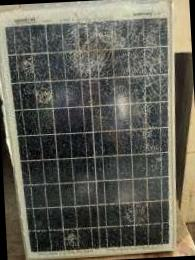Crack: (57, 18, 160, 90), (10, 48, 72, 120), (96, 82, 162, 138), (48, 211, 100, 252), (115, 191, 158, 239)
